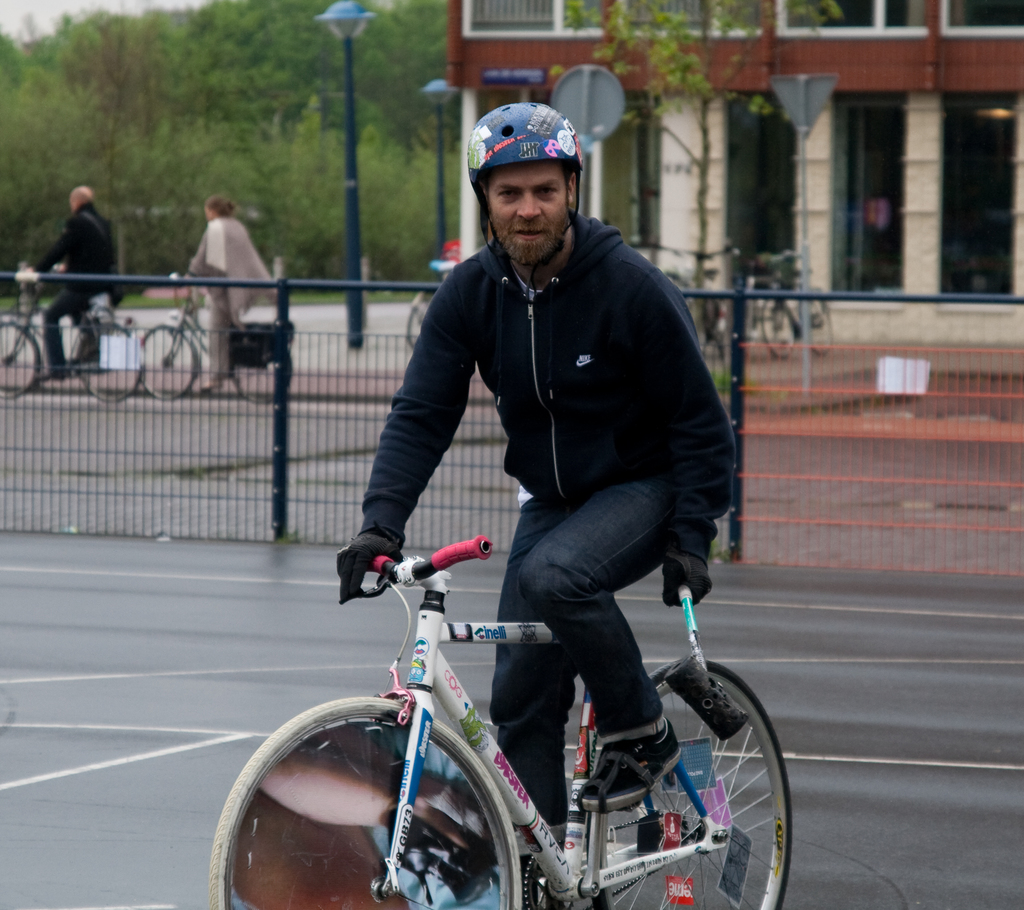Tree: (0, 0, 458, 298), (555, 0, 845, 325)
